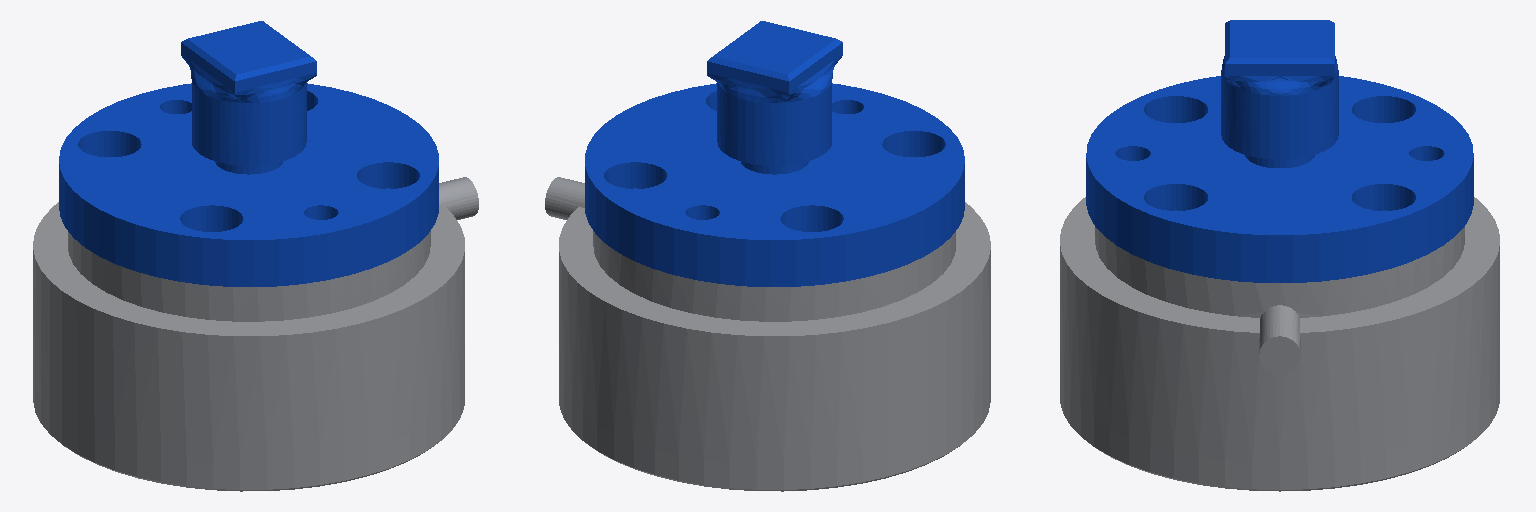
robot.urdf — touch_tool_tcp:
<?xml version="1.0"?>
<!--
  touch_tool_tcp.urdf
  TCP de palpação do Touch Pack (Gazebo Classic) — pilha que o CR10 carrega no
  flange (Link6), montada a partir de `cad/montagens/MONTAGEM_FA7155_stack.step`:

      flange fixo FA7155 → célula FA7155 de 6 eixos → acoplador hot-swap
          → ponteira F retangular 15 × 17

  Ensino de pose feito com outra ferramenta precisa ser refeito. O carimbo
  `tool_tcp_mm` (constants.tool_stamp) existe exatamente para o operador ver
  isso ao carregar home/poses/contato aprendido, em vez de descobrir na descida.

  Os sólidos vêm de UMA montagem, já posicionados entre si, e o gerador
  normaliza pela face que parafusa no punho do CR10 — o punho (`pulso_robo_cr10`
  no STEP) é referência de montagem e não entra nem na massa nem na origem.

  PILHA NO EIXO +Z DO FLANGE (mm, lida do CAD)
  ══════════════════════════════════════════
      0,0 …   6,0   flange fixo FA7155 (disco ⌀75 de alumínio, comprado à
                                        parte; parafusa direto no punho)
      0,4 …  36,9   célula FA7155     (corpo ⌀75, o saliente em +X é o conector)
     37,2 …  59,2   acoplador hot-swap (disco ⌀66 × 10 + haste ⌀15 × 12)
     49,7 …  67,7   ponteira F        (soquete sobre a haste, face 15 × 17)

    Z = 67,7 mm → tcp_link (face de contato da ponteira F)

  As sobreposições de faixa (viga dentro do acoplador, haste dentro da luva)
  são os próprios encaixes mecânicos — cada link tem colisão só do que fica
  EXPOSTO, senão o ODE ganha geometria duplicada dentro do mesmo corpo rígido.

  SEM SENSOR TÁTIL. O laminado 5×5 foi desenhado para a cabeça 22,4 × 24,9 da
  ponteira D, que não entra nesta pilha — a ponteira F termina numa face de
  15 × 17 mm e não tem onde apoiá-lo. Com esta ferramenta montada o modo de
  palpação mede FORÇA (seis eixos), não distribuição de pressão.

  MASSAS E INÉRCIAS
  ═════════════════
  Calculadas da geometria real por `scripts/gen_tcp_meshes_from_step.py` na
  pilha `ft6` (o script pede a opção de pilha na linha de comando), que também
  gera os STL de `meshes/`. Dois hífens seguidos são ilegais dentro de um
  comentário XML, daí a opção não aparecer escrita aqui. Densidades:
    peças impressas (PLA 0,25 mm, 40% infill) ... 950 kg/m³
    alumínio (flange fixo) ...................... 2700 kg/m³
  A célula é a EXCEÇÃO: 300 g de catálogo em vez da integral da geometria. O
  STEP dela é o envelope externo, sem a eletrônica, e integrar daria 2077 kg/m³
  de densidade aparente — número sem significado físico.
  Total do conjunto: 0,3837 kg, CoM em Z = +19,5 mm do flange (peso 3,76 N).

  TCP em (0, 0, +67,7 mm) no frame do Link6, sem rotação — espelhado em
  `touch_pack.kinematics.T_TOUCH_TOOL_ATTACH` e na compensação de gravidade de
  `config/tactile_controllers.yaml`. Mexeu aqui, mexe nos três.

  Uso standalone (Gazebo): mantenha o bloco world/Link6 abaixo.
  Integração no CR10: o launch injeta os mesmos links/juntas usando o Link6
  do robô — este arquivo é a referência legível e o alvo de `check_urdf`.
-->
<robot name="touch_tool_tcp">

  <!-- ══════════════════════════════════════════════════════════════════
       ROOT (modo standalone): liga a ferramenta ao world para teste.
       Na integração com o CR10 este bloco sai e o Link6 é o do robô.
  ══════════════════════════════════════════════════════════════════ -->
  <link name="world"/>

  <joint name="world_to_base" type="fixed">
    <parent link="world"/>
    <child link="Link6"/>
    <origin xyz="0 0 0" rpy="0 0 0"/>
  </joint>

  <!-- Placeholder do flange (substituído pelo Link6 do CR10 na integração). -->
  <link name="Link6">
    <inertial>
      <mass value="0.001"/>
      <inertia ixx="1e-9" ixy="0.0" ixz="0.0"
               iyy="1e-9" iyz="0.0" izz="1e-9"/>
    </inertial>
  </link>

  <!-- Azul do filamento: todas as peças impressas saíram na mesma cor. -->
  <material name="printed_blue">
    <color rgba="0.11 0.35 0.78 1.0"/>
  </material>
  <!-- Cinza metálico: flange fixo e corpo da FA7155. -->
  <material name="steel_grey">
    <color rgba="0.62 0.63 0.65 1.0"/>
  </material>

  <!-- ══════════════════════════════════════════════════════════════════
       FLANGE FIXO DO FA7155 — cad/celula_carga/FA7155 固定端法兰（需另购）.STEP
       Disco de alumínio ⌀75 × 6 mm que parafusa DIRETO na face do flange do
       CR10 (manual §2.1: quatro M6 + pino Φ6), sem acoplador intermediário.
  ══════════════════════════════════════════════════════════════════ -->
  <link name="ft_flange_link">
    <inertial>
      <origin xyz="0.00018 0.00010 0.00295" rpy="0 0 0"/>
      <mass value="0.0518"/>
      <inertia ixx="2.149e-05" ixy="-1.491e-07" ixz="-4.657e-10"
               iyy="2.224e-05" iyz="-2.689e-10" izz="4.341e-05"/>
    </inertial>
    <visual>
      <origin xyz="0 0 0" rpy="0 0 0"/>
      <geometry>
        <mesh filename="package://touch_pack/meshes/fa7155_flange_fixo.stl"
              scale="0.001 0.001 0.001"/>
      </geometry>
      <material name="steel_grey"/>
    </visual>
    <collision name="col_ft_flange">
      <origin xyz="0 0 0.003" rpy="0 0 0"/>
      <geometry><cylinder radius="0.0375" length="0.006"/></geometry>
    </collision>
  </link>

  <joint name="ft_flange_attach" type="fixed">
    <parent link="Link6"/>
    <child link="ft_flange_link"/>
    <origin xyz="0 0 0" rpy="0 0 0"/>
  </joint>

  <!-- ══════════════════════════════════════════════════════════════════
       CÉLULA FA7155 DE 6 EIXOS — cad/celula_carga/FA7155D_20Nm.step
       Corpo de alumínio ⌀75 × 36,5 mm que mede as SEIS componentes do wrench
       (Fx Fy Fz Mx My Mz) e as entrega por RS485 — nada aqui converte sinal,
       ver ft_serial.py. A massa é a do CATÁLOGO (300 g) e não a integrada da
       geometria: o STEP é o envelope externo, sem a eletrônica interna, e
       integrá-lo daria 2077 kg/m³ de densidade aparente.
       O saliente em +X (bbox vai a 44 mm) é o conector do cabo; a colisão é
       cilíndrica e o ignora, porque ele não é superfície de contato.
       Colisão só do trecho EXPOSTO: os 5,6 mm de baixo ficam no flange fixo.
  ══════════════════════════════════════════════════════════════════ -->
  <link name="load_cell_link">
    <inertial>
      <origin xyz="0.00010 0.00008 0.01933" rpy="0 0 0"/>
      <mass value="0.3000"/>
      <inertia ixx="1.233e-04" ixy="2.380e-09" ixz="-2.932e-07"
               iyy="1.258e-04" iyz="2.405e-07" izz="2.059e-04"/>
    </inertial>
    <visual>
      <origin xyz="0 0 0" rpy="0 0 0"/>
      <geometry>
        <mesh filename="package://touch_pack/meshes/fa7155_sensor.stl"
              scale="0.001 0.001 0.001"/>
      </geometry>
      <material name="steel_grey"/>
    </visual>
    <collision name="col_load_cell">
      <origin xyz="0 0 0.02105" rpy="0 0 0"/>
      <geometry><cylinder radius="0.0375" length="0.0309"/></geometry>
    </collision>
  </link>

  <joint name="load_cell_attach" type="fixed">
    <parent link="ft_flange_link"/>
    <child link="load_cell_link"/>
    <origin xyz="0 0 0.0004" rpy="0 0 0"/>
  </joint>

  <!-- ══════════════════════════════════════════════════════════════════
       ACOPLADOR HOT-SWAP — cad/acopladores/acoplador_celula_hotswap.step
       Disco impresso ⌀66 × 10 mm na face móvel da célula, seguido de uma
       haste ⌀15 × 12 mm onde a ponteira encaixa. É o par do `acoplador_tool`
       da pilha antiga, mas MUITO mais curto: é aqui e no corpo do touch_tool
       (que sumiu) que estão os 94,5 mm de diferença de TCP.
       Colisão do disco + do trecho de haste que sobra antes da ponteira.
  ══════════════════════════════════════════════════════════════════ -->
  <link name="coupler_tool_link">
    <inertial>
      <origin xyz="0.00000 -0.00000 0.00484" rpy="0 0 0"/>
      <mass value="0.0275"/>
      <inertia ixx="7.242e-06" ixy="-3.037e-22" ixz="-1.493e-23"
               iyy="7.546e-06" iyz="-5.549e-23" izz="1.416e-05"/>
    </inertial>
    <visual>
      <origin xyz="0 0 0" rpy="0 0 0"/>
      <geometry>
        <mesh filename="package://touch_pack/meshes/acoplador_celula_hotswap.stl"
              scale="0.001 0.001 0.001"/>
      </geometry>
      <material name="printed_blue"/>
    </visual>
    <collision name="col_coupler_disc">
      <origin xyz="0 0 0.005" rpy="0 0 0"/>
      <geometry><cylinder radius="0.033" length="0.010"/></geometry>
    </collision>
    <collision name="col_coupler_stem">
      <origin xyz="0 0 0.01125" rpy="0 0 0"/>
      <geometry><cylinder radius="0.0075" length="0.0025"/></geometry>
    </collision>
  </link>

  <joint name="coupler_tool_attach" type="fixed">
    <parent link="load_cell_link"/>
    <child link="coupler_tool_link"/>
    <origin xyz="0 0 0.0368" rpy="0 0 0"/>
  </joint>

  <!-- ══════════════════════════════════════════════════════════════════
       PONTEIRA F — cad/ponteiras/ponteira_F_retangular_15x17.step
       Corpo 20 × 20 mm com um soquete interno que desce sobre a haste do
       acoplador, afinando no topo até a FACE DE CONTATO de 15 × 17 mm. É a
       peça hot-swap: trocar de ponteira muda a altura do TCP.
       Não há laminado tátil 5×5 nesta pilha — aquele foi desenhado para a
       cabeça 22,4 × 24,9 da ponteira D, que não entra aqui.
  ══════════════════════════════════════════════════════════════════ -->
  <link name="tool_tip_link">
    <inertial>
      <origin xyz="0.00000 0.00000 0.00990" rpy="0 0 0"/>
      <mass value="0.0043"/>
      <inertia ixx="2.429e-07" ixy="1.706e-09" ixz="-1.740e-18"
               iyy="2.328e-07" iyz="-1.404e-21" izz="2.484e-07"/>
    </inertial>
    <visual>
      <origin xyz="0 0 0" rpy="0 0 0"/>
      <geometry>
        <mesh filename="package://touch_pack/meshes/ponteira_F_retangular_15x17.stl"
              scale="0.001 0.001 0.001"/>
      </geometry>
      <material name="printed_blue"/>
    </visual>
    <collision name="col_tip_body">
      <origin xyz="0 0 0.008" rpy="0 0 0"/>
      <geometry><box size="0.020 0.020 0.016"/></geometry>
    </collision>
    <!-- Face de 15 x 17: é ESTA caixa que toca a peça. -->
    <collision name="col_tip_face">
      <origin xyz="0 0 0.017" rpy="0 0 0"/>
      <geometry><box size="0.0150 0.0170 0.0020"/></geometry>
    </collision>
  </link>

  <joint name="tool_tip_attach" type="fixed">
    <parent link="coupler_tool_link"/>
    <child link="tool_tip_link"/>
    <origin xyz="0 0 0.0125" rpy="0 0 0"/>
  </joint>

  <!-- ══════════════════════════════════════════════════════════════════
       tcp_link — face de contato da ponteira F, Z = +67,7 mm do flange.
       Soma da cadeia: 0 + 0,4 + 36,8 + 12,5 + 18,0 = 67,7 mm.
  ══════════════════════════════════════════════════════════════════ -->
  <link name="tcp_link"/>

  <joint name="tcp_alias_joint" type="fixed">
    <parent link="tool_tip_link"/>
    <child link="tcp_link"/>
    <origin xyz="0 0 0.018" rpy="0 0 0"/>
  </joint>

  <!-- ══════════════════════════════════════════════════════════════════
       PROPRIEDADES GAZEBO (ODE)
       Em Gazebo Classic a cor declarada no material do link nem sempre
       renderiza; o override ambient/diffuse/specular no bloco gazebo
       reference abaixo é o que efetivamente colore a peça.

       NB: nada de sintaxe de tag dentro de comentário aqui. O launch monta o
       URDF mínimo do robot_state_publisher removendo visual/collision/
       inertial por regex, e um nome de tag solto no meio de um comentário
       faz a regex casar através dele e comer o fechamento do link.
  ══════════════════════════════════════════════════════════════════ -->
  <gazebo reference="Link6">
    <self_collide>0</self_collide>
  </gazebo>

  <gazebo reference="ft_flange_link">
    <self_collide>0</self_collide><gravity>true</gravity>
    <mu1>0.40</mu1><mu2>0.40</mu2><kp>1.0e5</kp><kd>100.0</kd>
    <maxContacts>4</maxContacts><minDepth>0.0002</minDepth><maxVel>0.05</maxVel>
    <visual><material>
      <ambient>0.40 0.41 0.43 1</ambient>
      <diffuse>0.62 0.63 0.65 1</diffuse>
      <specular>0.85 0.85 0.90 1</specular>
    </material></visual>
  </gazebo>

  <gazebo reference="load_cell_link">
    <self_collide>0</self_collide><gravity>true</gravity>
    <mu1>0.40</mu1><mu2>0.40</mu2><kp>1.0e5</kp><kd>100.0</kd>
    <maxContacts>4</maxContacts><minDepth>0.0002</minDepth><maxVel>0.05</maxVel>
    <visual><material>
      <ambient>0.40 0.41 0.43 1</ambient>
      <diffuse>0.62 0.63 0.65 1</diffuse>
      <specular>0.85 0.85 0.90 1</specular>
    </material></visual>
  </gazebo>

  <gazebo reference="coupler_tool_link">
    <self_collide>0</self_collide><gravity>true</gravity>
    <mu1>0.40</mu1><mu2>0.40</mu2><kp>1.0e5</kp><kd>100.0</kd>
    <maxContacts>4</maxContacts><minDepth>0.0002</minDepth><maxVel>0.05</maxVel>
    <visual><material>
      <ambient>0.06 0.20 0.45 1</ambient>
      <diffuse>0.11 0.35 0.78 1</diffuse>
      <specular>0.25 0.25 0.30 1</specular>
    </material></visual>
  </gazebo>

  <!-- Ponteira: atrito mais alto — é a superfície que desliza sobre a peça.
       kp/minDepth são os VALORES DA BASELINE (as coletas boas de 29–31/08).
       f934d4e ("ports") os endureceu para 1e6 / 0,05 mm com o argumento de
       que a compliância do ensaio deve vir da mola da amostra, não do
       contato — argumento correto, mas ele entrou no mesmo commit que
       quebrou a descida e volta junto com o resto da baseline.
       Ao re-endurecer: mexer NESTES dois isolado dos de research_lab.world,
       e conferir o pico do primeiro impacto (impact_peak_n) — contato mais
       rígido multiplica o pico à mesma velocidade de toque. -->
  <gazebo reference="tool_tip_link">
    <self_collide>0</self_collide><gravity>true</gravity>
    <mu1>0.60</mu1><mu2>0.60</mu2><kp>1.0e5</kp><kd>100.0</kd>
    <maxContacts>4</maxContacts><minDepth>0.0002</minDepth><maxVel>0.05</maxVel>
    <visual><material>
      <ambient>0.06 0.20 0.45 1</ambient>
      <diffuse>0.11 0.35 0.78 1</diffuse>
      <specular>0.25 0.25 0.30 1</specular>
    </material></visual>
  </gazebo>

  <!-- ══════════════════════════════════════════════════════════════════
       F/T SIMULADA na junta onde a FA7155 real está montada.
       `disableFixedJointLumping` preserva a junta na conversão URDF→SDF
       (sem isso ela some e o plugin não acha `load_cell_attach`).
       `provideFeedback` liga o wrench de restrição da junta.
       O plugin publica geometry_msgs/WrenchStamped em /sim/load_cell/wrench;
       o nó `sim_force_bridge` converte force.z → /load_cell/force_net
       (compressão positiva), fechando a malha de força NO SIM.

       CUSTO, e por isso os dois blocos abaixo são REMOVIDOS pelo launch
       quando force_source != 'sim' (ver _build_touch_tool_suffix):
       preservar a junta tira do lumping os 331,8 g abaixo dela
       (load_cell 300,0 + coupler_tool 27,5 + tip 4,3), com CoM a ~24 mm do
       punho. O que era UM corpo rígido vira dois
       ligados por uma restrição que o ODE resolve iterativamente — ou seja,
       elástica. É massa pendurada exatamente onde J4 trabalha, e a coleta
       20260901_094646 mostrou J4 ultrapassando o home em 1,25° e oscilando
       sozinha enquanto J2/J3 estavam congeladas.

       Com force_source=real (o default, e o que os ensaios usam) nada se
       perde: a força vem da célula física.
  ══════════════════════════════════════════════════════════════════ -->
  <gazebo reference="load_cell_attach">
    <disableFixedJointLumping>true</disableFixedJointLumping>
    <provideFeedback>true</provideFeedback>
  </gazebo>

  <gazebo>
    <plugin name="sim_load_cell_ft" filename="libgazebo_ros_ft_sensor.so">
      <ros>
        <namespace>/</namespace>
        <remapping>wrench:=/sim/load_cell/wrench</remapping>
      </ros>
      <joint_name>load_cell_attach</joint_name>
      <update_rate>80.0</update_rate>
      <gaussian_noise>0.02</gaussian_noise>
    </plugin>
  </gazebo>

</robot>

--- Render facts (derived) ---
3 views of the same robot in one strip: view 1: azimuth 30°, elevation 25°; view 2: azimuth 150°, elevation 25°; view 3: azimuth 270°, elevation 25° (orthographic).
Robot: touch_tool_tcp — 7 links, 6 joints (6 fixed); root link world; default pose: every joint at zero.
Visible links, largest first — view 1: load_cell_link, coupler_tool_link, tool_tip_link, ft_flange_link; view 2: load_cell_link, coupler_tool_link, tool_tip_link, ft_flange_link; view 3: load_cell_link, coupler_tool_link, tool_tip_link, ft_flange_link.
Boxes of the visible links, x1,y1,x2,y2 form: load_cell_link: [33, 177, 478, 464]; coupler_tool_link: [59, 83, 438, 286]; tool_tip_link: [181, 21, 316, 165]; ft_flange_link: [33, 378, 464, 491]; load_cell_link: [545, 177, 990, 464]; coupler_tool_link: [585, 83, 964, 286]; tool_tip_link: [707, 21, 842, 165]; ft_flange_link: [559, 378, 990, 491]; load_cell_link: [1060, 197, 1499, 463]; coupler_tool_link: [1086, 76, 1473, 282]; tool_tip_link: [1221, 20, 1338, 159]; ft_flange_link: [1060, 378, 1499, 491].
Size in the robot's own frame: 0.0815 by 0.075 by 0.0677 metres.
4 mesh visuals loaded from 4 distinct referenced files (4 binary STL).
